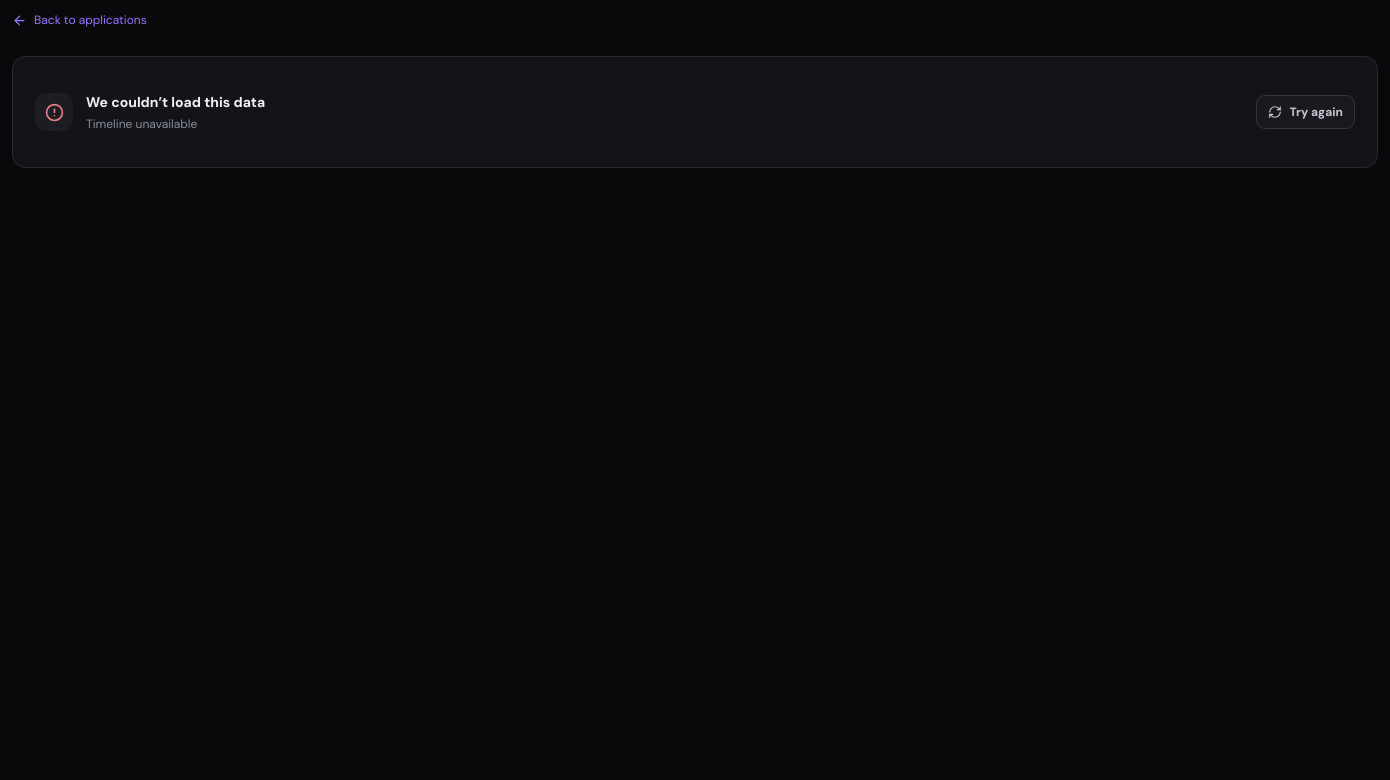
Test case: application timeline page › shows a retryable error and loads the timeline after retry
Expected: the text "Timeline unavailable" is shown, 86,116 -> 197,132
Step 1. Click the button "Try again" → [1305, 112], box 1256,95 -> 1355,129
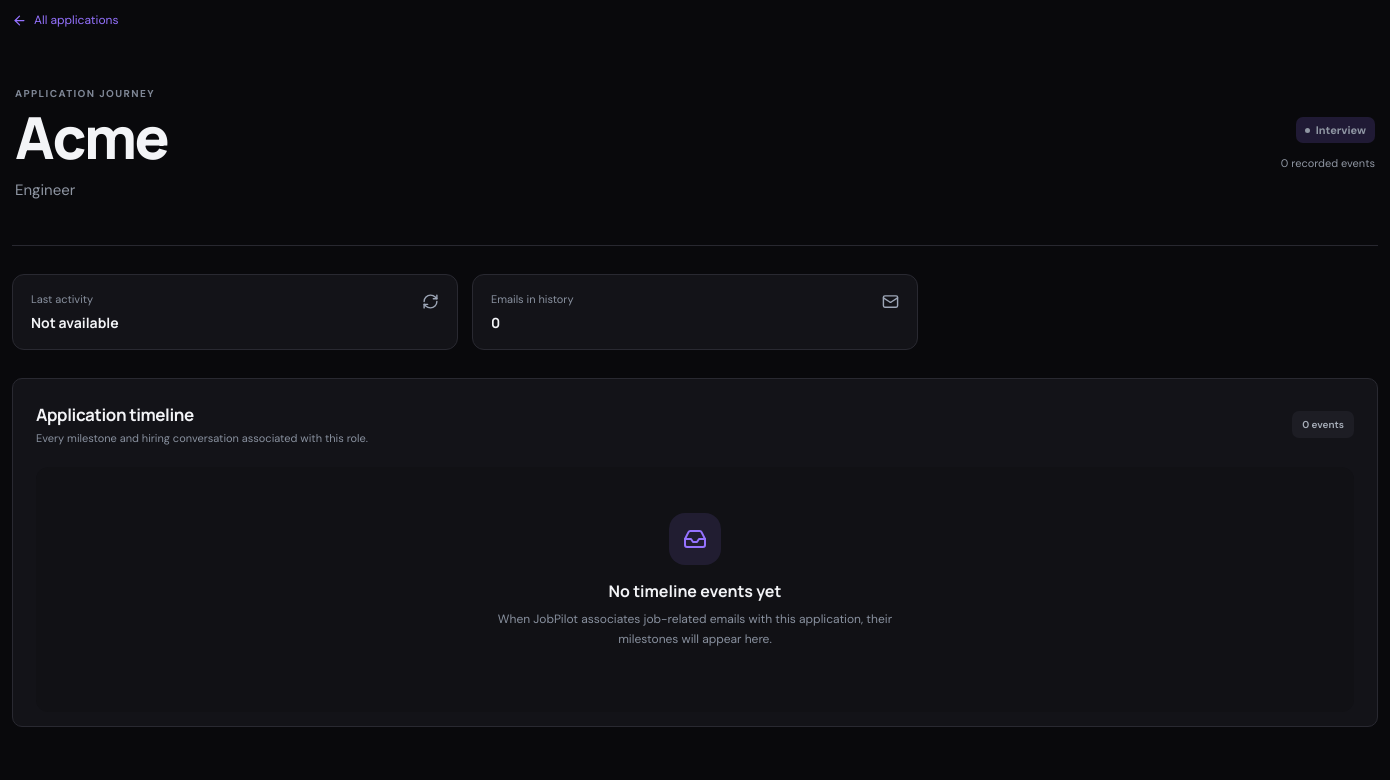
Now the heading "No timeline events yet" is shown, box 609,580 -> 781,602
